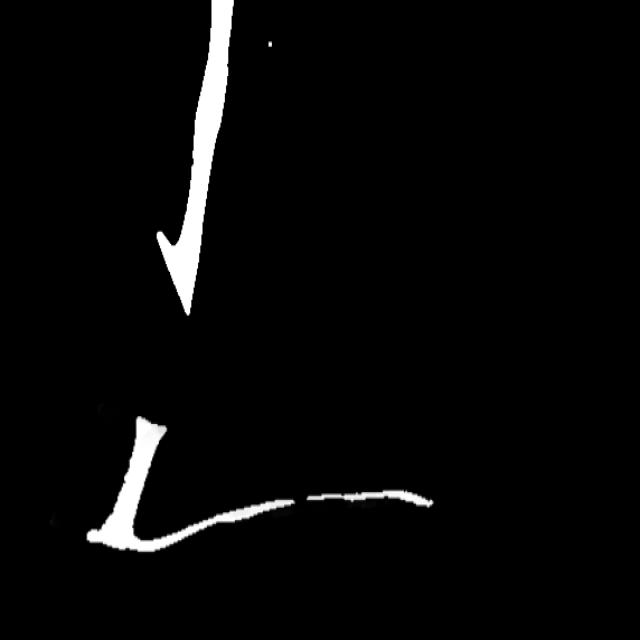sup: (287, 490, 315, 510)
